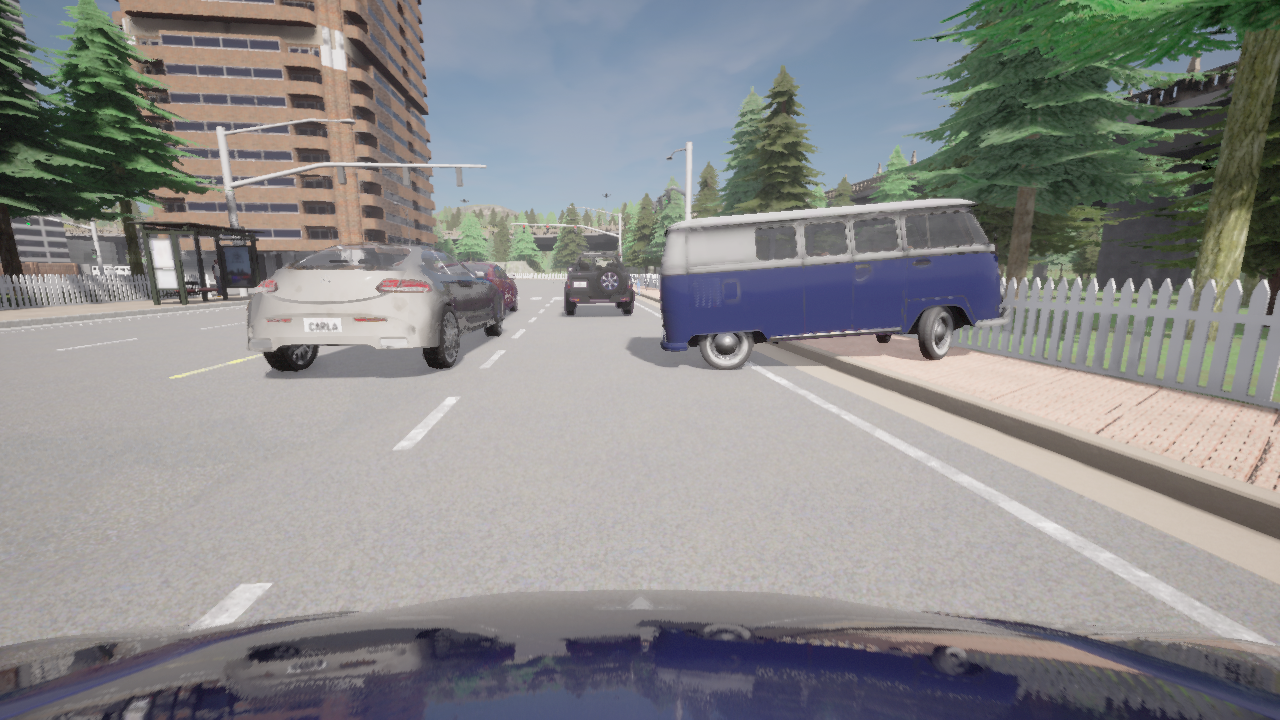cyclist: (0, 588, 1279, 719), (660, 197, 1009, 370), (246, 242, 502, 371), (565, 252, 633, 315), (460, 261, 516, 318), (78, 264, 115, 277), (103, 264, 130, 275)
pedestrian: (211, 259, 221, 295), (635, 273, 641, 296)
